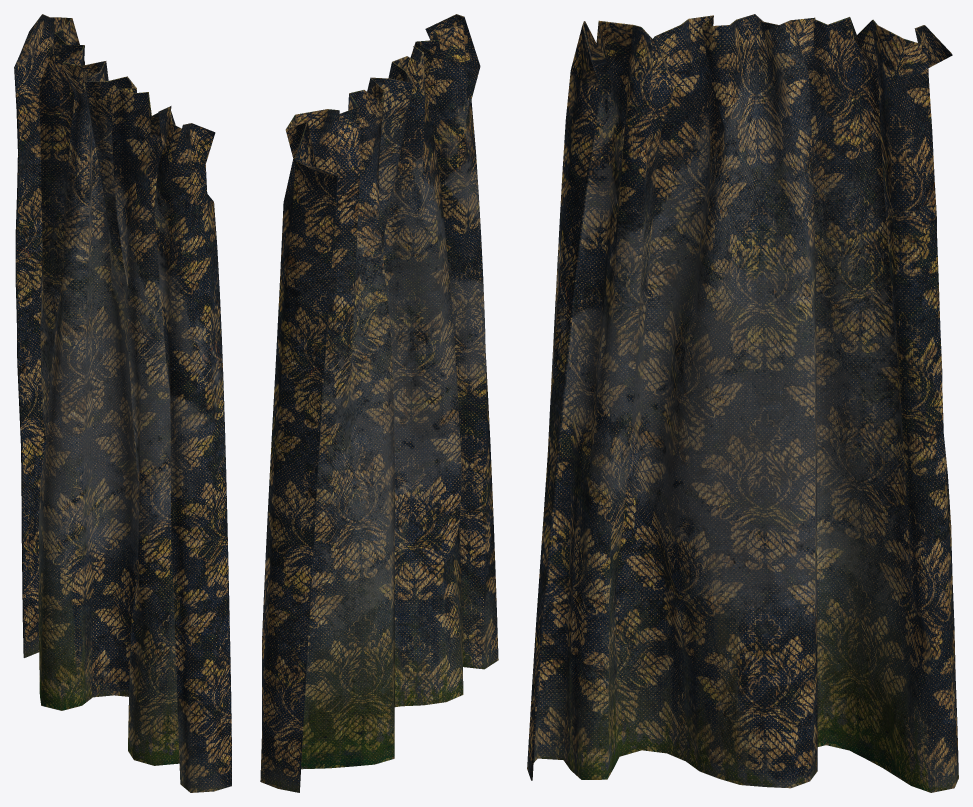
The model's file is curtain 1.fbx.
3 renders of one model, left to right at view 1: azimuth 30°, elevation 25°; view 2: azimuth 150°, elevation 25°; view 3: azimuth 270°, elevation 25°, orthographic. The views are drawn at different scales.
Parts seen in each view (by area): view 1: Plane; view 2: Plane; view 3: Plane.
Boxes of the visible parts, x1,y1,x2,y2 form: Plane: (14,14,231,792); Plane: (260,14,498,792); Plane: (527,14,958,792).
Size of the model in its own units: 21.81 by 159 by 83.24.
Materials: 1 (1 with a texture image).
